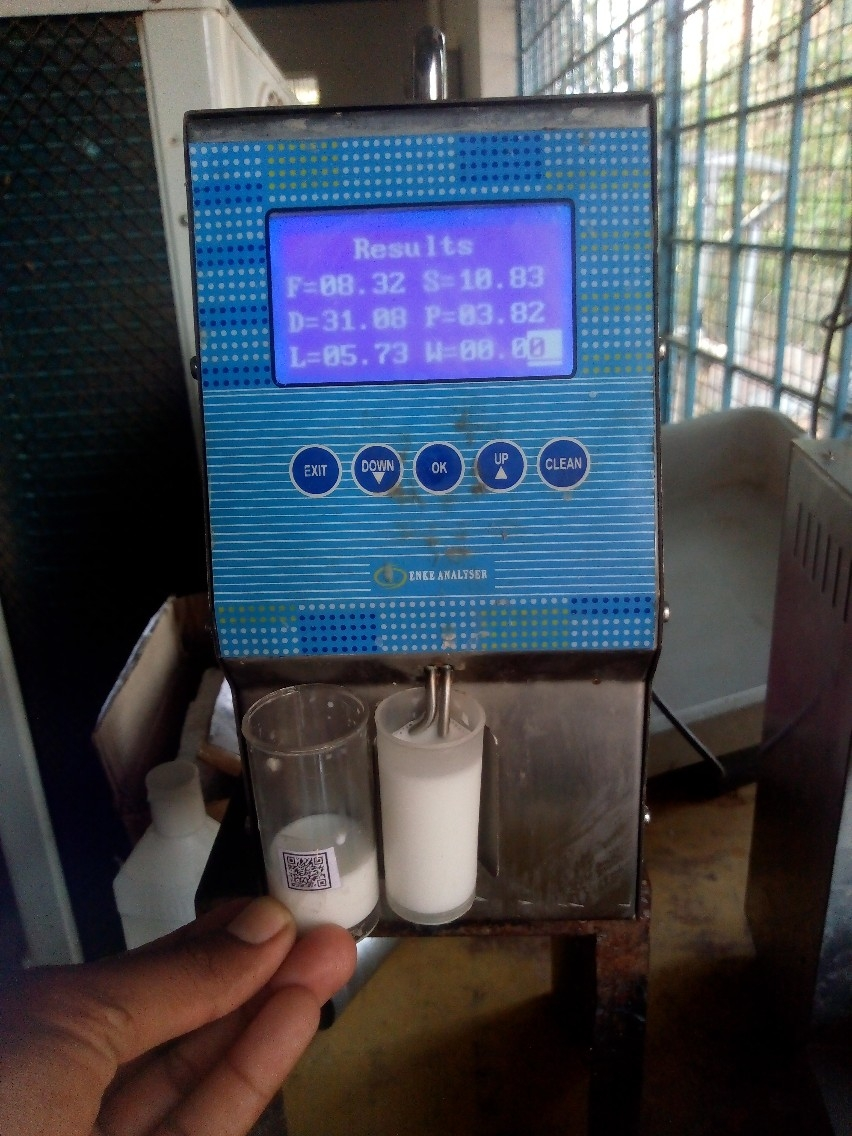lcd: (254, 197, 593, 397)
qr: (274, 840, 345, 899)
